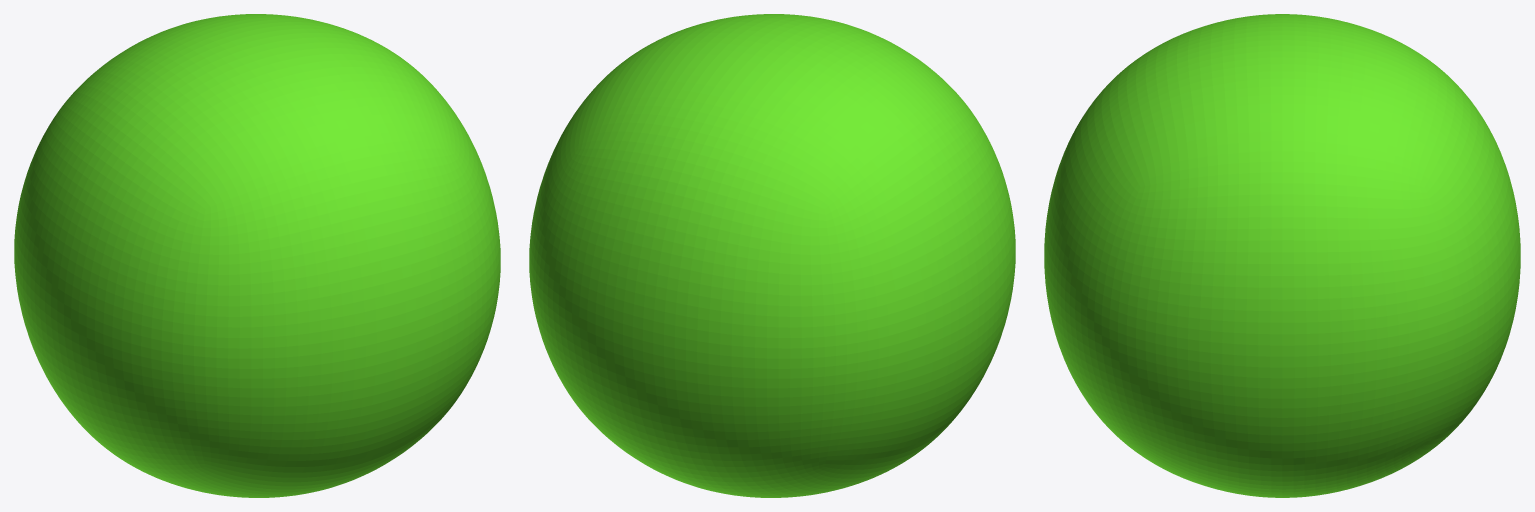
Rendered from mass.glb.
3 renders of one model, left to right at view 1: azimuth 30°, elevation 25°; view 2: azimuth 150°, elevation 25°; view 3: azimuth 270°, elevation 25°, orthographic.
Parts seen in each view (by area): view 1: Cube.001; view 2: Cube.001; view 3: Cube.001.
Part boxes in pixels (bbox=[...]): Cube.001: bbox=[14, 14, 500, 497]; Cube.001: bbox=[529, 14, 1015, 497]; Cube.001: bbox=[1044, 14, 1520, 497].
Bounding box in the file's own units: 1.68 × 1.68 × 1.68.
